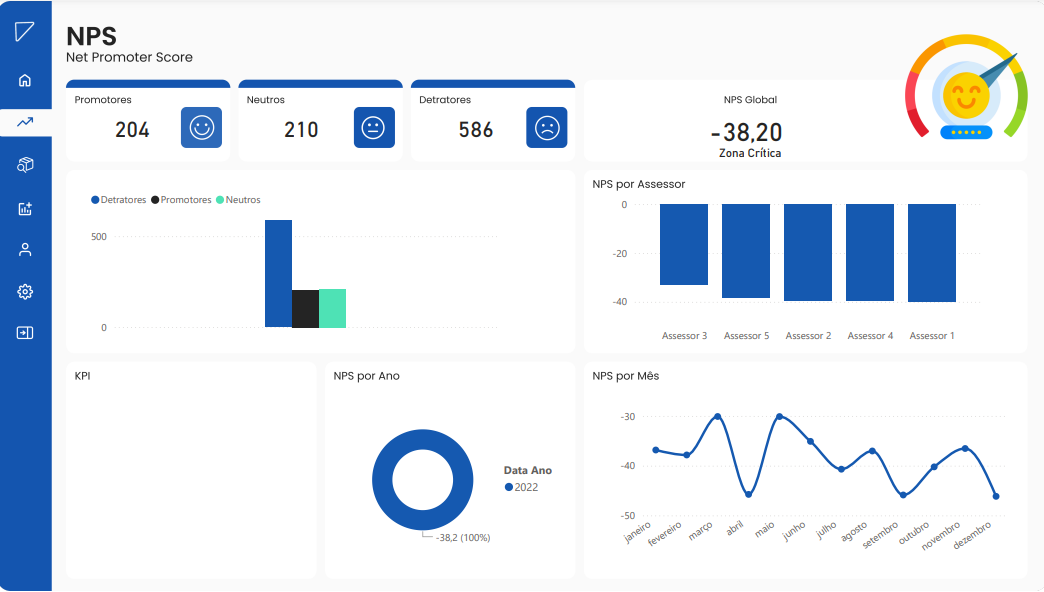

What the dashboard file says about the page in this screenshot:
{"tool":"powerbi","page":{"name":"NPS","canvas":[1280,720],"ordinal":0},"visuals":[{"type":"cardVisual","fields":{"Data":["NPS.NPS Global"]},"box":[834,116,158,78],"z":0},{"type":"cardVisual","fields":{"Data":["NPS.Promotores"]},"box":[124,116,82,70],"z":1000},{"type":"cardVisual","fields":{"Data":["NPS.Neutros"]},"box":[327,116,88,70],"z":2000},{"type":"cardVisual","fields":{"Data":["NPS.Detratores"]},"box":[537,116,93,70],"z":3000},{"type":"clusteredColumnChart","fields":{"Y":["NPS.Detratores","NPS.Promotores","NPS.Neutros"]},"box":[109,223,509,189],"z":4000},{"type":"columnChart","fields":{"Category":["Clientes.Assessor"],"Y":["NPS.NPS Global"]},"box":[745,234,461,193],"z":5000},{"type":"lineChart","fields":{"Category":["NPS.Data.Variation.Hierarquia de datas.Ano","NPS.Data.Variation.Hierarquia de datas.Trimestre","NPS.Data.Variation.Hierarquia de datas.Mês","NPS.Data.Variation.Hierarquia de datas.Dia"],"Y":["NPS.NPS Global"]},"box":[745,489,493,205],"z":6000},{"type":"donutChart","fields":{"Category":["NPS.Data.Variation.Hierarquia de datas.Ano","NPS.Data.Variation.Hierarquia de datas.Trimestre","NPS.Data.Variation.Hierarquia de datas.Mês","NPS.Data.Variation.Hierarquia de datas.Dia"],"Y":["NPS.NPS Global"]},"box":[415,475,286,219],"z":7000},{"type":"card","fields":{"Values":["NPS.Classificacao_NPS"]},"box":[845,170,147,33],"z":7001}]}

Visuals, with their boxes on the page's 1280x720 design canvas (x1, y1, x2, y2). These are canvas units, not pixel positions in the 1044x592 screenshot, which may show the page scaled, cropped or inside an application window:
cardVisual - NPS.NPS Global: [834,116,992,194]
cardVisual - NPS.Promotores: [124,116,206,186]
cardVisual - NPS.Neutros: [327,116,415,186]
cardVisual - NPS.Detratores: [537,116,630,186]
clusteredColumnChart - NPS.Detratores x NPS.Promotores: [109,223,618,412]
columnChart - Clientes.Assessor x NPS.NPS Global: [745,234,1206,427]
lineChart - NPS.Data.Variation.Hierarquia de datas.Ano x NPS.Data.Variation.Hierarquia de datas.Trimestre: [745,489,1238,694]
donutChart - NPS.Data.Variation.Hierarquia de datas.Ano x NPS.Data.Variation.Hierarquia de datas.Trimestre: [415,475,701,694]
card - NPS.Classificacao_NPS: [845,170,992,203]
